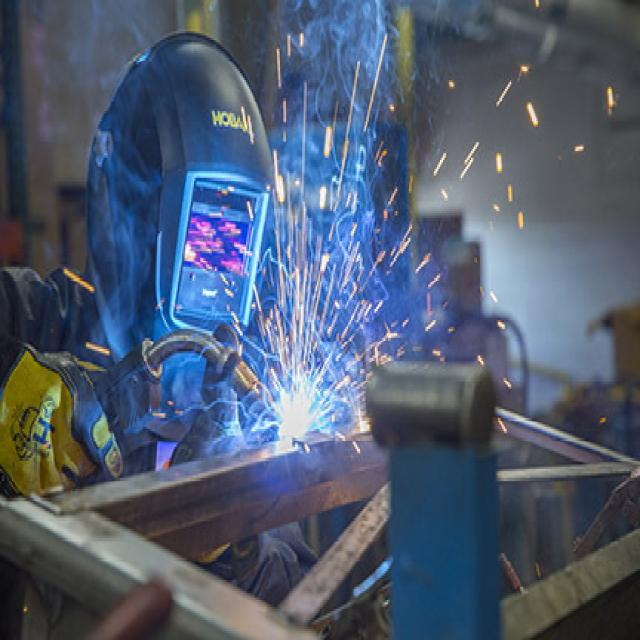welding: (281, 388, 311, 439)
